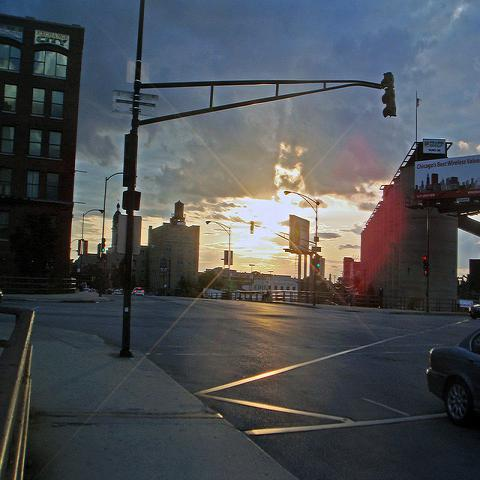car: (428, 327, 480, 424), (469, 302, 479, 320), (132, 287, 144, 296), (105, 287, 114, 294), (114, 290, 122, 294), (88, 288, 96, 292), (84, 287, 89, 292)
